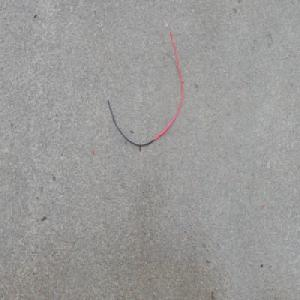Wire: (101, 18, 184, 146)
